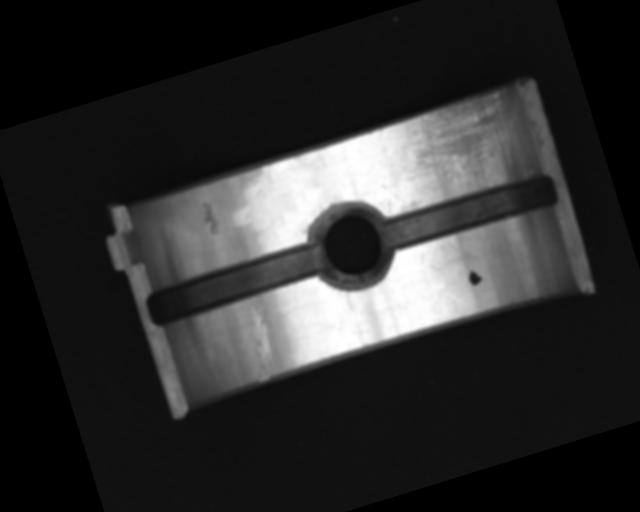blot: (465, 267, 485, 289)
bruise: (196, 198, 226, 239)
gap: (142, 237, 330, 331), (376, 168, 560, 256)
hole: (301, 192, 404, 299)
nick: (237, 304, 283, 382)
scratch: (394, 83, 539, 207)
